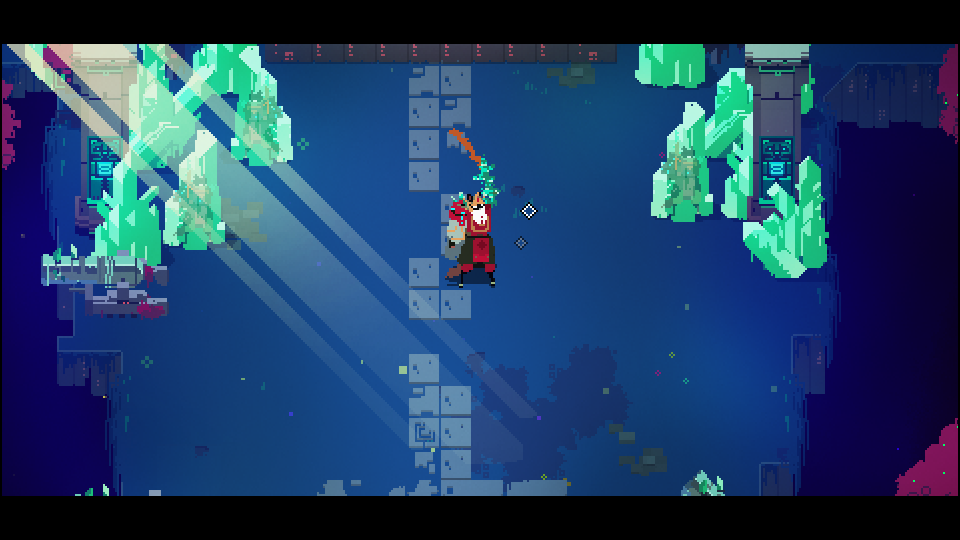hanged_man: (444, 162, 500, 279)
